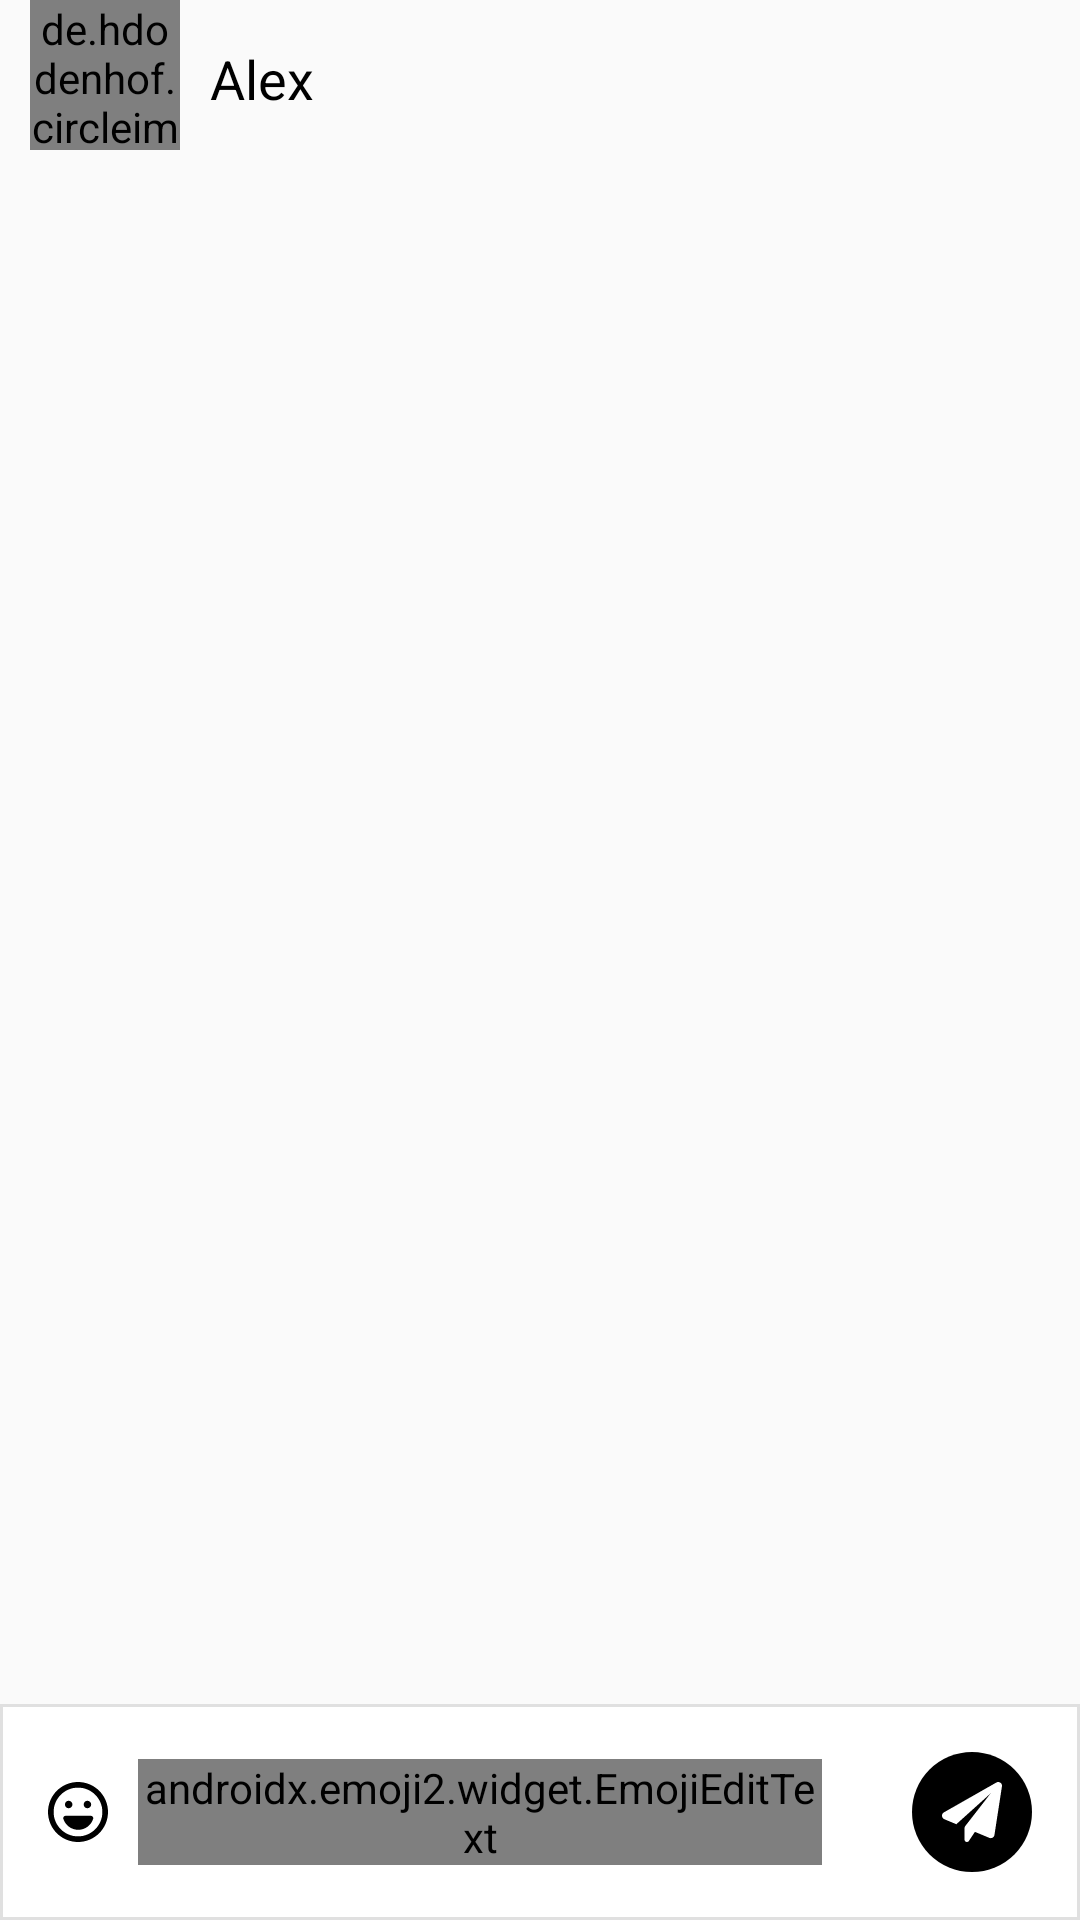

Named icons in this screenshot (1080px×1920px) and their centers, (x=x, y=y):
face laugh: (x=78, y=1812)
send: (x=972, y=1812)
